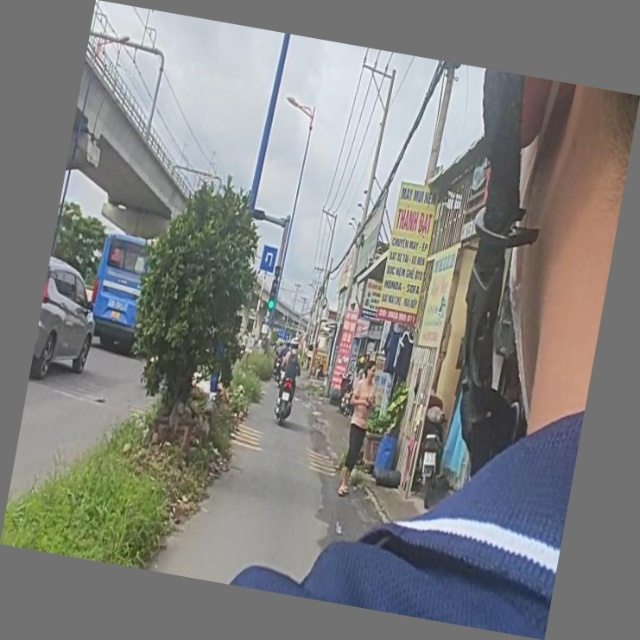I.409: (258, 243, 281, 276)
